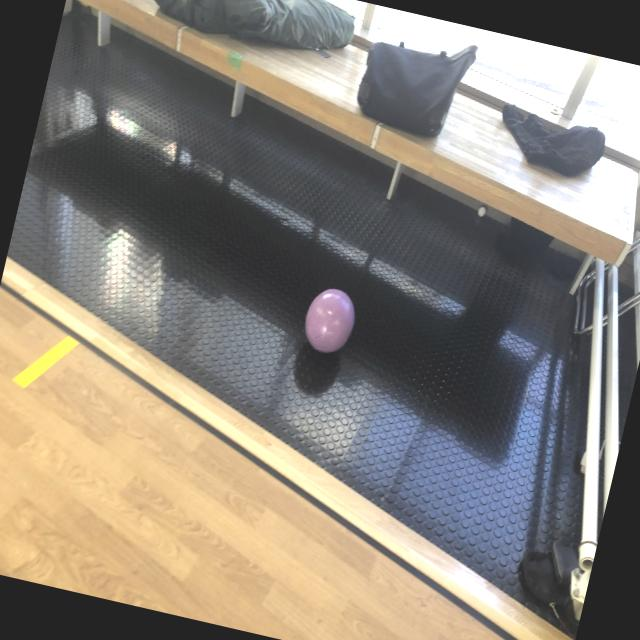purple_ball: (298, 284, 359, 358)
